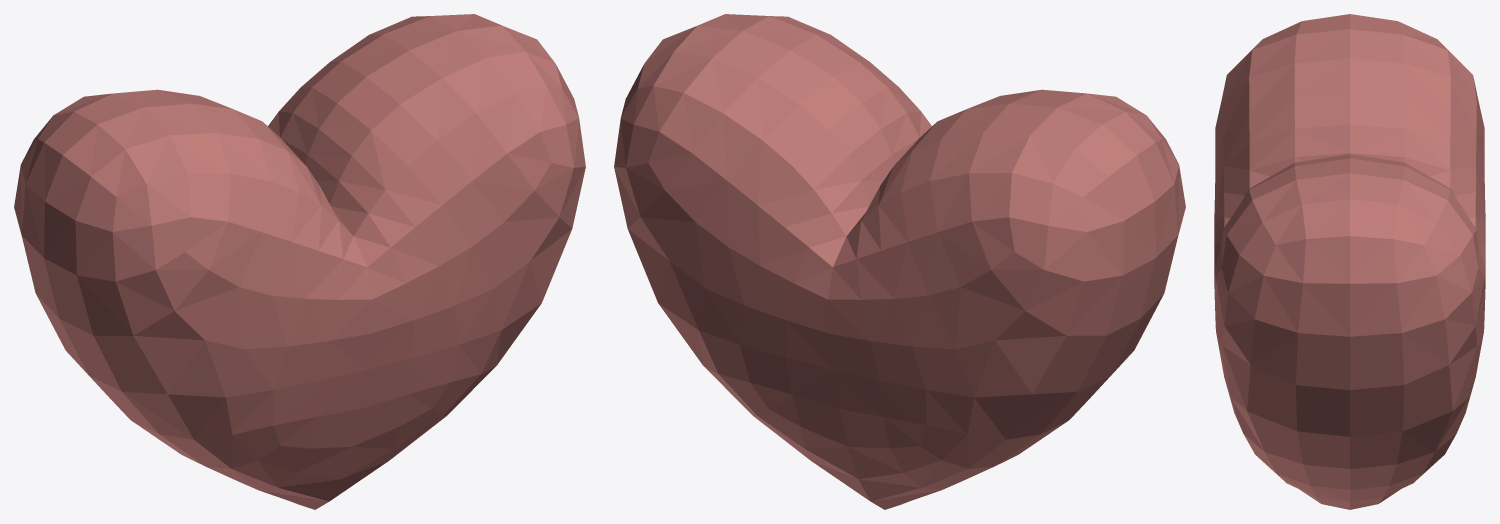
Rendered from heart.glb.
3 views of the same model, side by side, from view 1: azimuth 30°, elevation 25°; view 2: azimuth 150°, elevation 25°; view 3: azimuth 270°, elevation 25° (orthographic). The views are drawn at different scales.
Bounding box in the file's own units: 0.531 × 0.4318 × 0.2601.
